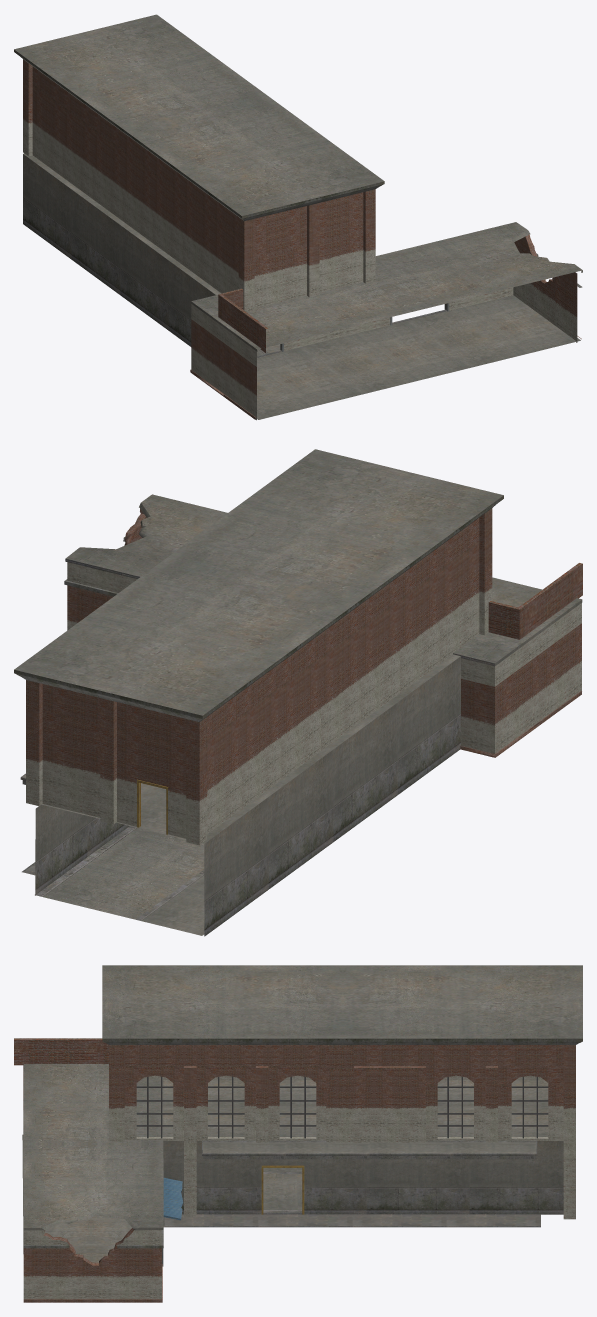
The model's file is Building_HeiygcFz04_2048.glb.
The picture shows the model from 3 angles, top to bottom: view 1: azimuth 30°, elevation 25°; view 2: azimuth 150°, elevation 25°; view 3: azimuth 270°, elevation 25°; orthographic projection. The views are drawn at different scales.
Parts seen in each view (by area): view 1: xiutz_heiygc_fz_04; view 2: xiutz_heiygc_fz_04; view 3: xiutz_heiygc_fz_04.
Part boxes in pixels (bbox=[...]): xiutz_heiygc_fz_04: bbox=[14, 14, 582, 420]; xiutz_heiygc_fz_04: bbox=[14, 449, 582, 936]; xiutz_heiygc_fz_04: bbox=[14, 965, 582, 1302].
Bounding box in the file's own units: 26.62 × 13.57 × 38.14.
Materials: 1 (1 with a texture image).
